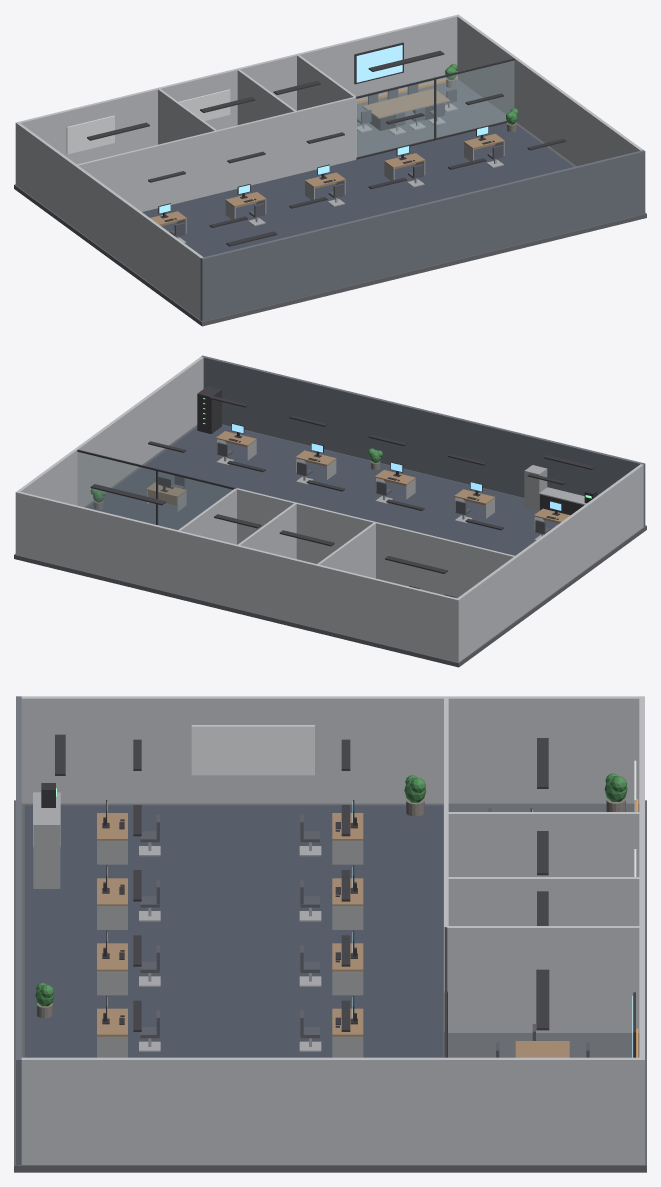
File: office.hand-authored.glb
3 views of the same model, one above another, from view 1: azimuth 30°, elevation 25°; view 2: azimuth 150°, elevation 25°; view 3: azimuth 270°, elevation 25° (orthographic). The views are drawn at different scales.
Visible parts, largest first — view 1: Wall_Front, Floor_DevCarpet, Wall_Back, Wall_Left, Wall_Right, Meeting_Glass_Wall, Floor_Slab, CorridorWall_CEO, CorridorWall_Office2, CorridorWall_Office3, Partition_V_0, Partition_V_2 (+6 smaller); view 2: Wall_Back, Wall_Front, Floor_DevCarpet, Wall_Left, Wall_Right, Meeting_Glass_Wall, CorridorWall_CEO, Floor_Slab, CorridorWall_Office2, Partition_V_0, Partition_V_1, Partition_V_2 (+5 smaller); view 3: Floor_DevCarpet, Wall_Right, Wall_Left, Partition_V_2, Floor_Slab, Partition_V_0, Partition_V_1, WB_DevFloor, Wall_Back, Wall_Front, Fridge, Meeting_TableTop (+13 smaller).
Boxes of the visible parts, <box> form: Wall_Front: <box>200,150,645,321</box>; Floor_DevCarpet: <box>142,123,573,257</box>; Wall_Back: <box>15,14,459,185</box>; Wall_Left: <box>17,123,203,319</box>; Wall_Right: <box>457,16,642,166</box>; Meeting_Glass_Wall: <box>357,61,514,157</box>; Floor_Slab: <box>14,79,646,326</box>; CorridorWall_CEO: <box>77,130,217,211</box>; CorridorWall_Office2: <box>216,111,296,193</box>; CorridorWall_Office3: <box>296,96,356,173</box>; Partition_V_0: <box>158,89,217,144</box>; Partition_V_2: <box>297,55,356,157</box>; Wall_Back: <box>15,491,460,662</box>; Wall_Front: <box>201,355,645,526</box>; Floor_DevCarpet: <box>87,424,558,555</box>; Wall_Left: <box>457,464,643,660</box>; Wall_Right: <box>18,357,203,506</box>; Meeting_Glass_Wall: <box>78,452,232,529</box>; CorridorWall_CEO: <box>375,522,514,598</box>; Floor_Slab: <box>14,424,646,667</box>; CorridorWall_Office2: <box>296,502,375,563</box>; Partition_V_0: <box>317,522,375,578</box>; Partition_V_1: <box>238,503,296,558</box>; Partition_V_2: <box>178,488,236,544</box>; Floor_DevCarpet: <box>24,805,443,1057</box>; Wall_Right: <box>21,1057,639,1164</box>; Wall_Left: <box>21,696,639,803</box>; Partition_V_2: <box>446,926,639,1032</box>; Floor_Slab: <box>14,800,646,1172</box>; Partition_V_0: <box>448,812,639,876</box>; Partition_V_1: <box>448,877,639,925</box>; WB_DevFloor: <box>191,725,314,775</box>; Wall_Back: <box>639,696,644,1164</box>; Wall_Front: <box>16,696,21,1164</box>; Fridge: <box>33,812,60,888</box>; Meeting_TableTop: <box>515,1041,569,1057</box>.
Size of the model in its own units: 22.4 by 3.2 by 16.4.
